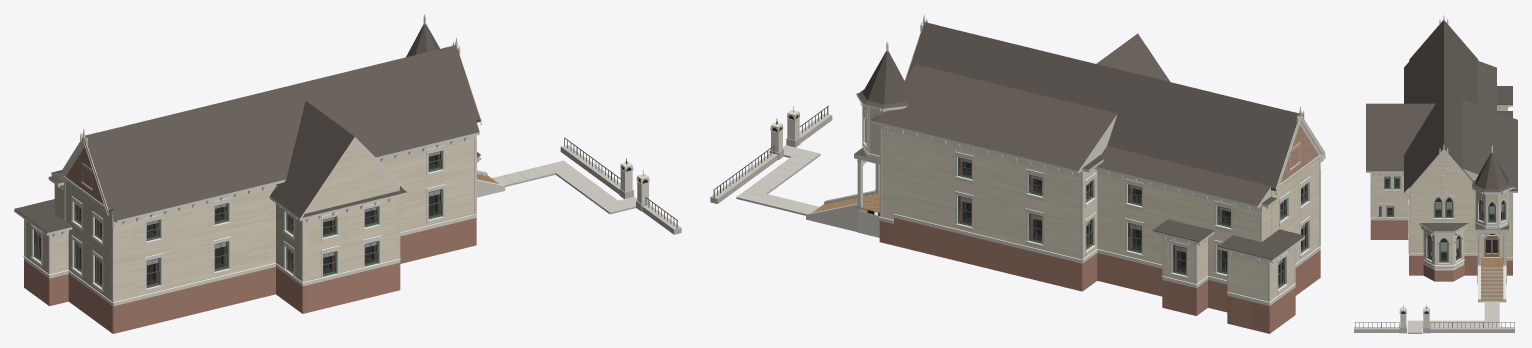
Rendered from shortall_gregory_house_1638_prairie_front__as_standing_1904.glb.
3 renders of one model, left to right at view 1: azimuth 30°, elevation 25°; view 2: azimuth 150°, elevation 25°; view 3: azimuth 270°, elevation 25°, orthographic. The views are drawn at different scales.
Visible parts, largest first — view 1: shortall_gregory_house_1638_prairie_front__as_standing_1904; view 2: shortall_gregory_house_1638_prairie_front__as_standing_1904; view 3: shortall_gregory_house_1638_prairie_front__as_standing_1904.
Boxes of the visible parts, left/top/right/bottom form: shortall_gregory_house_1638_prairie_front__as_standing_1904: left=14, top=14, right=681, bottom=333; shortall_gregory_house_1638_prairie_front__as_standing_1904: left=710, top=14, right=1325, bottom=333; shortall_gregory_house_1638_prairie_front__as_standing_1904: left=1354, top=14, right=1517, bottom=333.
Bounding box in the file's own units: 35.86 × 11.71 × 12.89.
